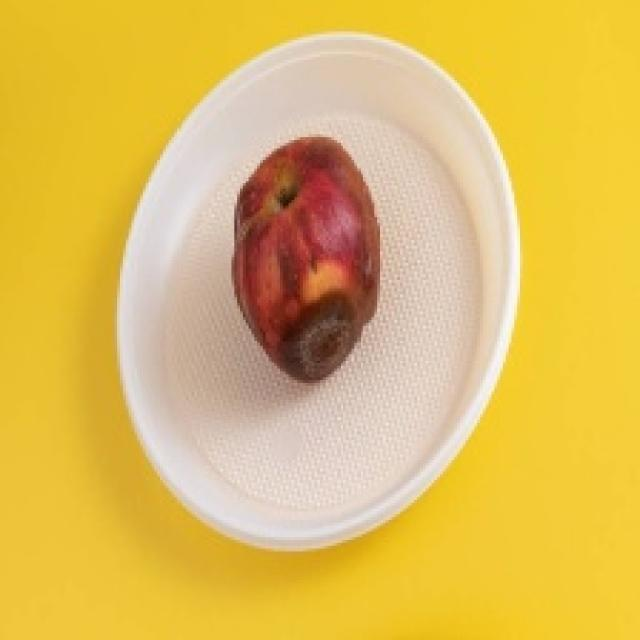rotten_apple: (234, 137, 377, 375)
